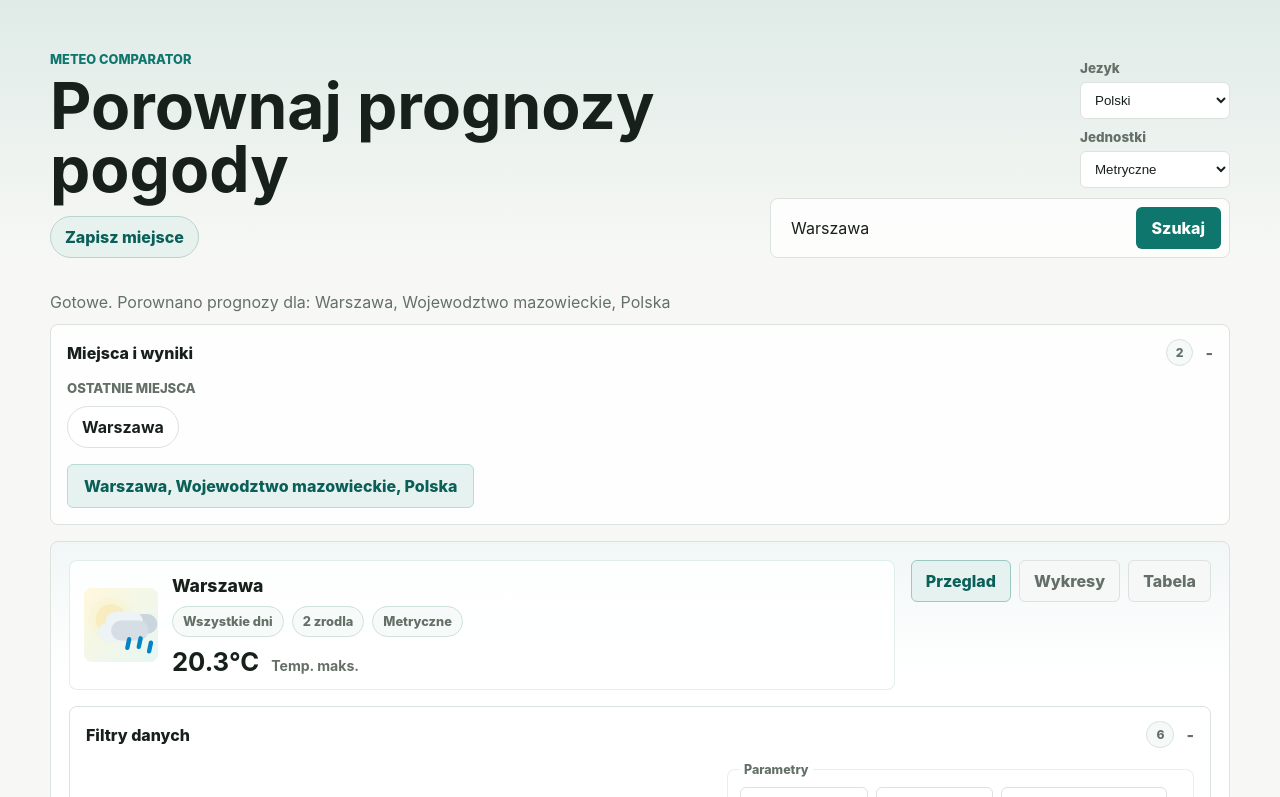
Test: App › saves the current location for quick reuse
The image size is (1280, 797).
Click the button "Zapisz miejsce" at (124, 237), box [50, 216, 199, 258]
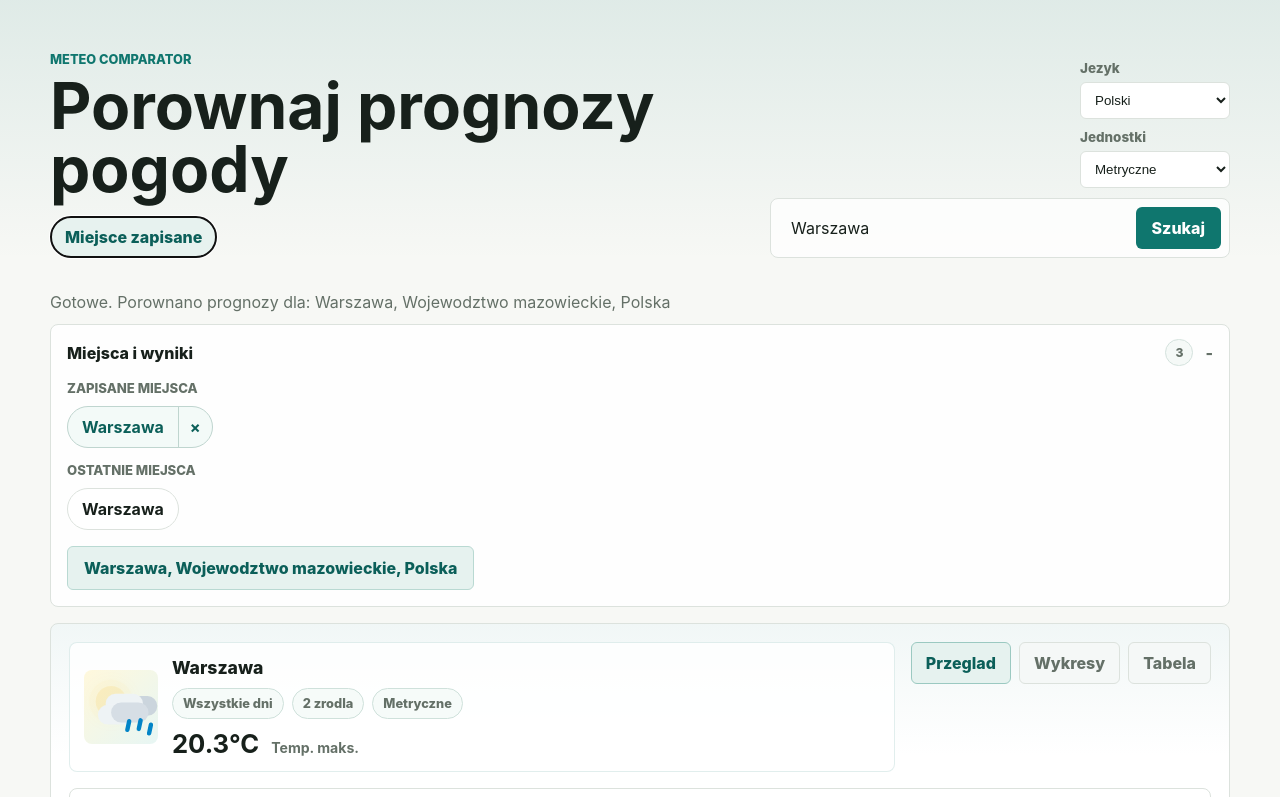
Check: the button "Miejsce zapisane" is shown, box [50, 216, 217, 258]
